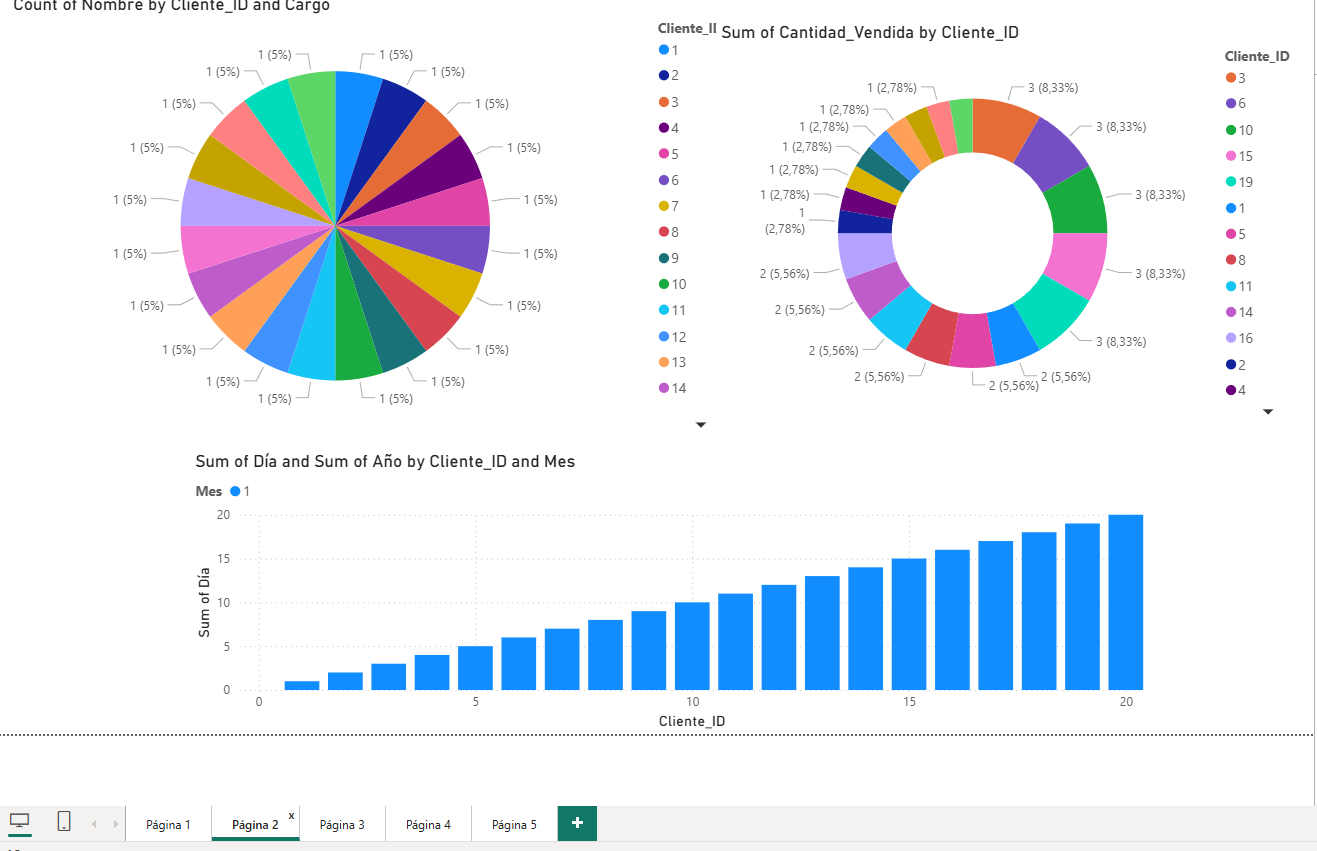

Layout of this report page (visuals, bound fields, positions):
{"tool":"powerbi","page":{"name":"Página 2","canvas":[1280,720],"ordinal":1},"visuals":[{"type":"pieChart","fields":{"Category":["Dim_Cliente.Cliente_ID"],"Y":["CountNonNull(Dim_Cliente.Nombre)"],"Series":["Dim_Empleado.Cargo"]},"box":[9.6,0,719,432.2],"z":0},{"type":"donutChart","fields":{"Category":["Dim_Cliente.Cliente_ID"],"Y":["Sum(Fact_Ventas.Cantidad_Vendida)"]},"box":[698.5,27.4,581.8,392.5],"z":1},{"type":"columnChart","fields":{"Category":["Dim_Cliente.Cliente_ID"],"Series":["Dim_Fecha.Mes"],"Y":["Sum(Dim_Fecha.Día)"]},"box":[186.6,444.6,933.1,275.8],"z":2}]}

Visuals, with their boxes on the page's 1280x720 design canvas (x1, y1, x2, y2). These are canvas units, not pixel positions in the 1317x851 screenshot, which may show the page scaled, cropped or inside an application window:
pieChart - Dim_Cliente.Cliente_ID x CountNonNull(Dim_Cliente.Nombre): (10, 0, 729, 432)
donutChart - Dim_Cliente.Cliente_ID x Sum(Fact_Ventas.Cantidad_Vendida): (698, 27, 1280, 420)
columnChart - Dim_Cliente.Cliente_ID x Dim_Fecha.Mes: (187, 445, 1120, 720)
